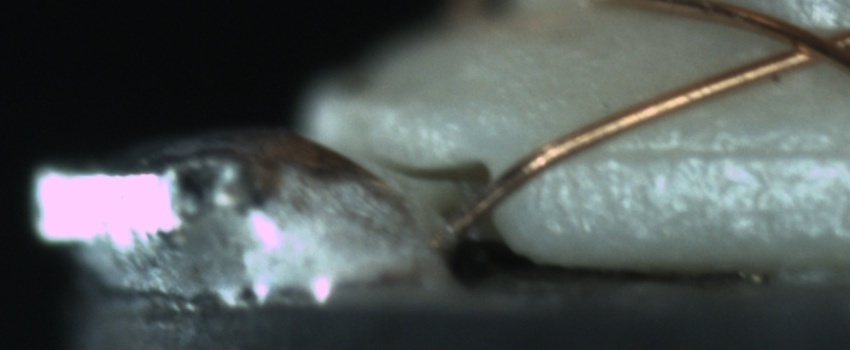CL: (761, 13, 849, 75)
DL: (566, 123, 849, 182)
